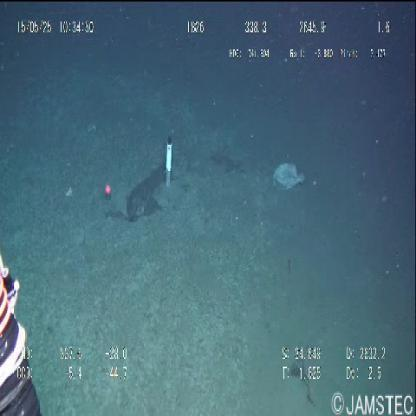Rác: (273, 163, 307, 191)
